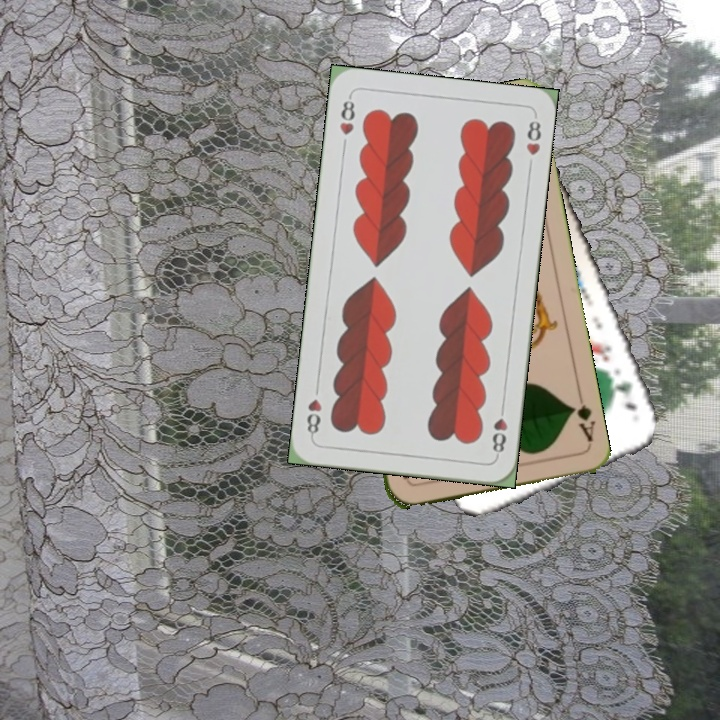GA: (566, 388, 597, 447)
GK: (611, 376, 640, 415)
H8: (488, 400, 510, 459), (335, 92, 357, 138)
